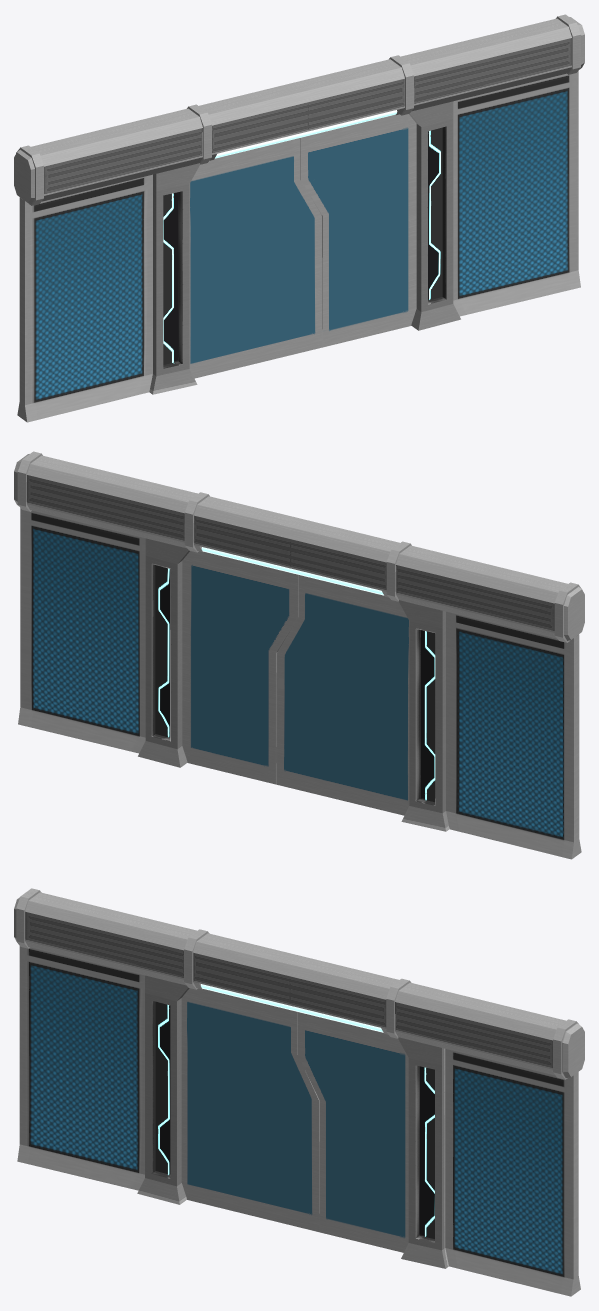
Rendered from PUERTA CIS.fbx.
The picture shows the model from 3 angles, top to bottom: view 1: azimuth 30°, elevation 25°; view 2: azimuth 150°, elevation 25°; view 3: azimuth 330°, elevation 25°; orthographic projection.
Parts seen in each view (by area): view 1: Extructura, Puerta Izq, Puerta Der; view 2: Extructura, Puerta Izq, Puerta Der; view 3: Extructura, Puerta Izq, Puerta Der.
Part boxes in pixels (<box>): Extructura: <box>14,14,584,422</box>; Puerta Izq: <box>189,138,322,378</box>; Puerta Der: <box>300,114,416,347</box>; Extructura: <box>14,451,584,859</box>; Puerta Izq: <box>276,575,409,815</box>; Puerta Der: <box>182,551,298,784</box>; Extructura: <box>14,888,584,1296</box>; Puerta Izq: <box>181,988,319,1232</box>; Puerta Der: <box>297,1012,408,1252</box>.
Size of the model in its own units: 567 by 261 by 35.36.
